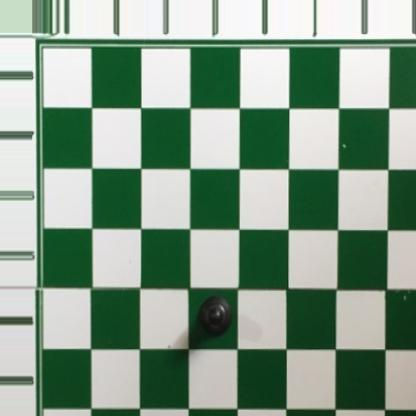black-pawn: (196, 294, 233, 339)
